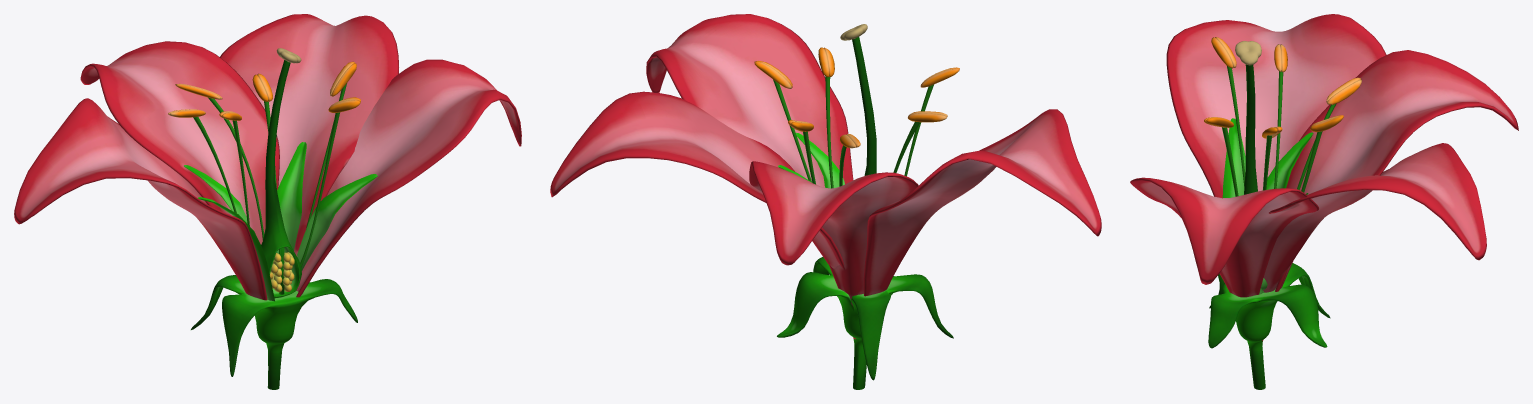
The model's file is modelo.glb.
3 views of the same model, side by side, from view 1: azimuth 30°, elevation 25°; view 2: azimuth 150°, elevation 25°; view 3: azimuth 270°, elevation 25° (orthographic). The views are drawn at different scales.
Parts seen in each view (by area): view 1: flower_flower_0; view 2: flower_flower_0; view 3: flower_flower_0.
Boxes of the visible parts, x1,y1,x2,y2 form: flower_flower_0: [14, 14, 521, 389]; flower_flower_0: [550, 14, 1101, 389]; flower_flower_0: [1130, 14, 1518, 389].
Bounding box in the file's own units: 2.23 × 1.57 × 1.59.
1 material, 1 textured.
